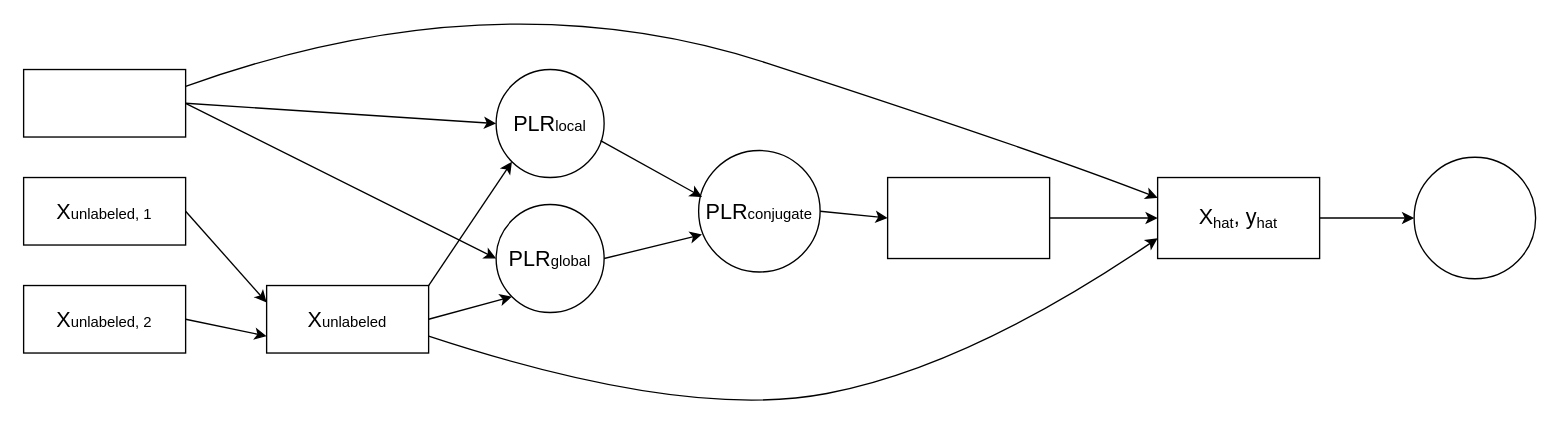
Some shapes in this 1559 by 424 pixel diagram are drawn without their labels. The shapes that lost their labels are listed below. From the top down, each one's box as (x1, y1, x2, y2) in pixels, then its label:
(22, 68, 186, 137): X labeled , y
(886, 176, 1050, 259): p i , y bar
(1413, 156, 1536, 279): SVR
